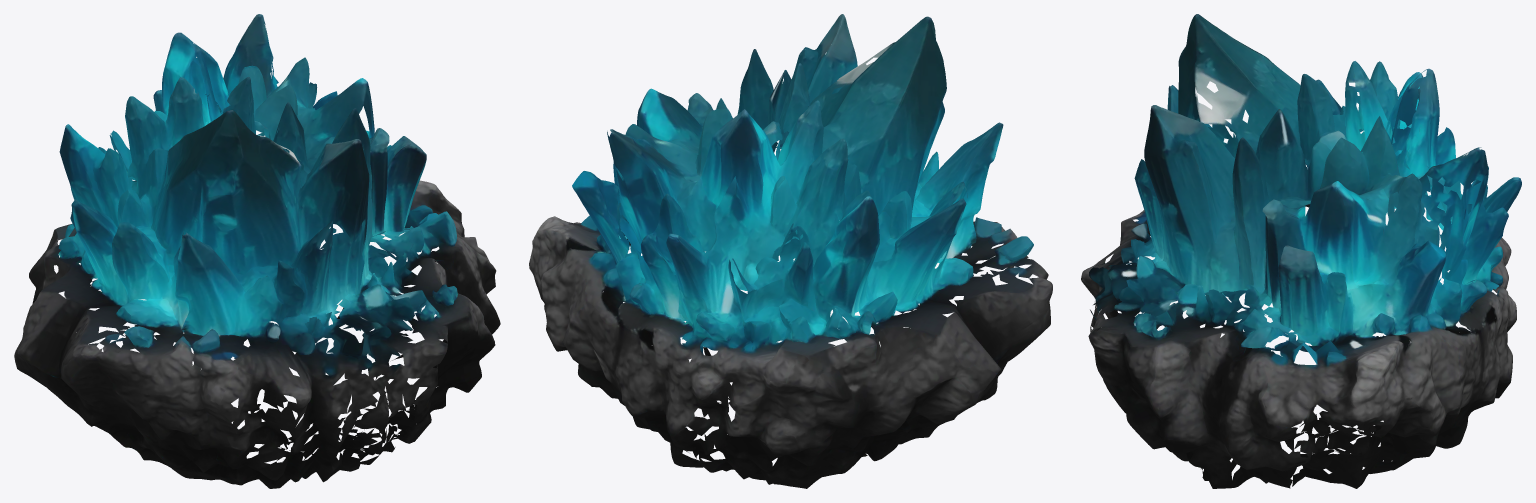
Rendered from mineral.glb.
3 renders of one model, left to right at view 1: azimuth 30°, elevation 25°; view 2: azimuth 150°, elevation 25°; view 3: azimuth 270°, elevation 25°, orthographic.
Visible parts, largest first — view 1: geometry_0.673; view 2: geometry_0.673; view 3: geometry_0.673.
Boxes of the visible parts, x1,y1,x2,y2 form: geometry_0.673: (14,14,500,488); geometry_0.673: (529,14,1052,488); geometry_0.673: (1081,14,1521,488).
Bounding box in the file's own units: 1.53 × 1.29 × 1.3.
Materials: 1 (1 with a texture image).
